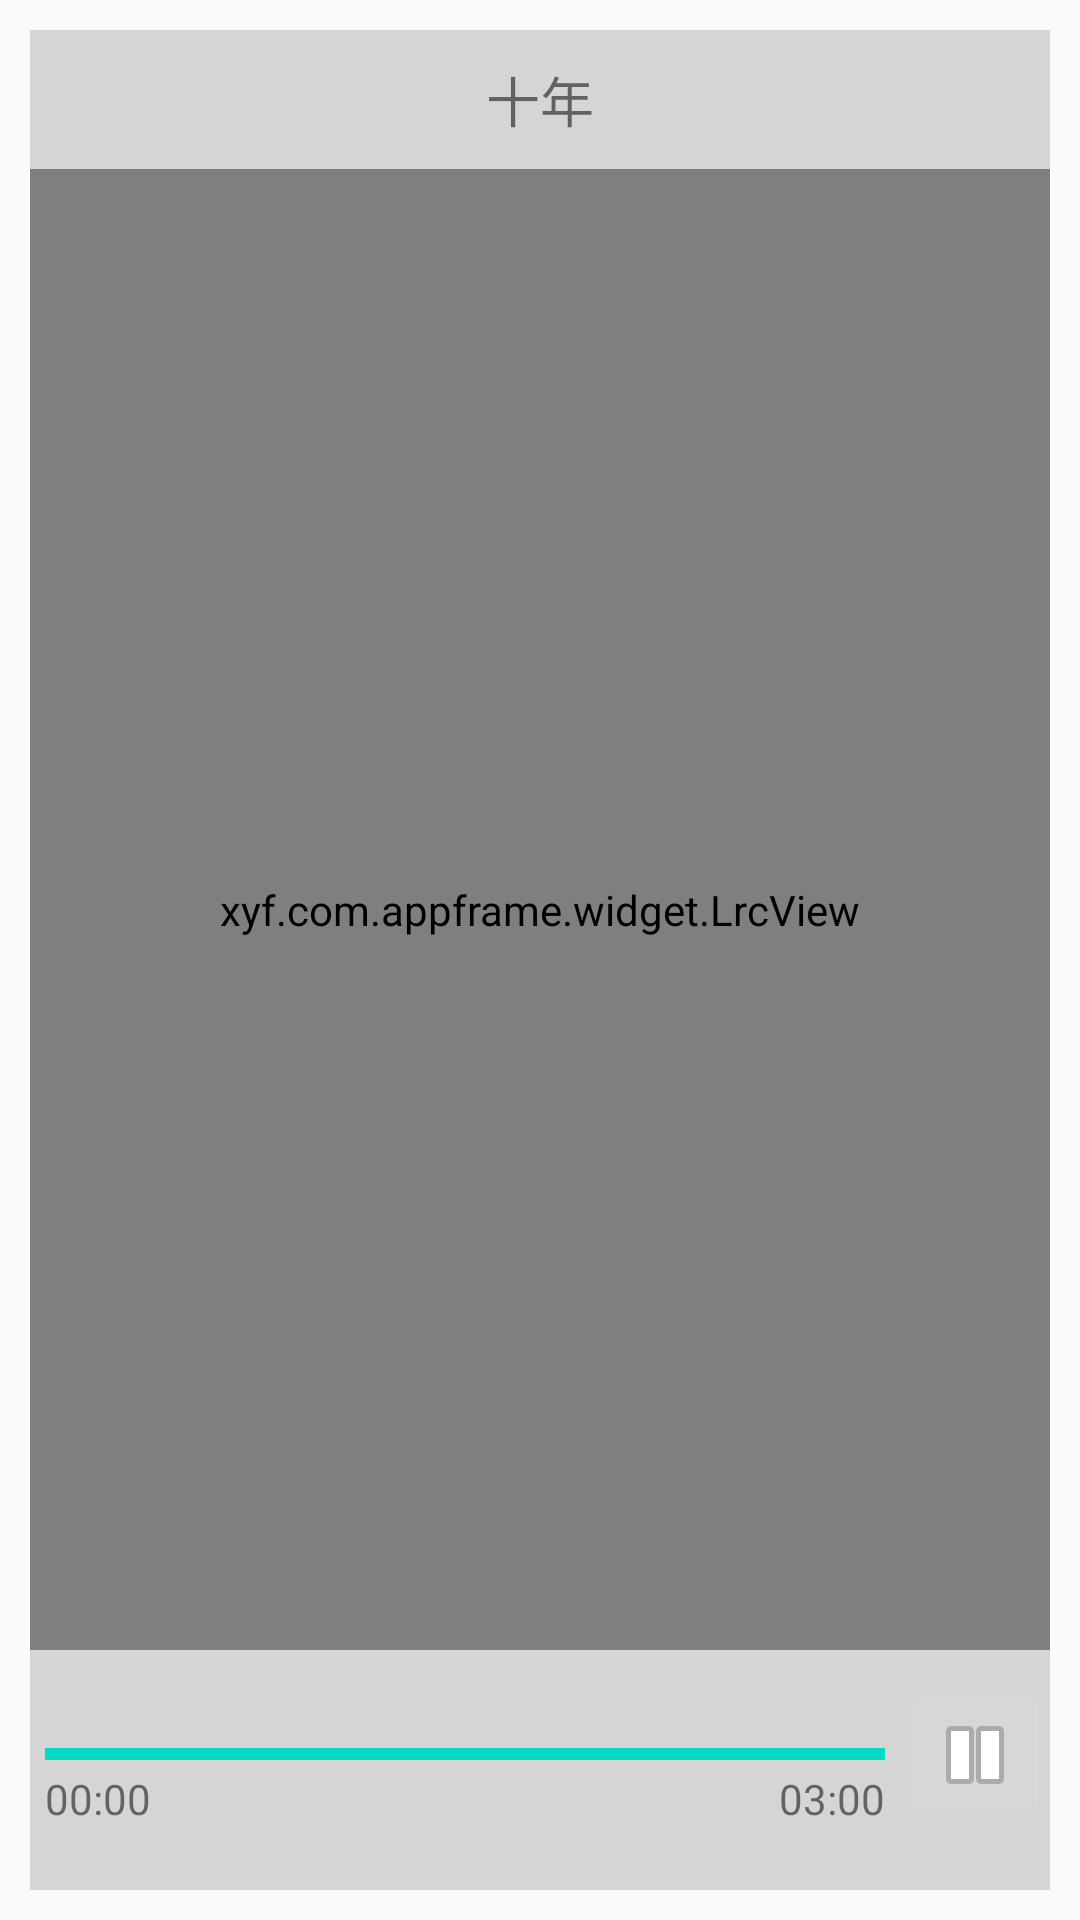

Icon click points for this 1080x1920 phone screenshot, format (x,y):
pause: (975,1755)
